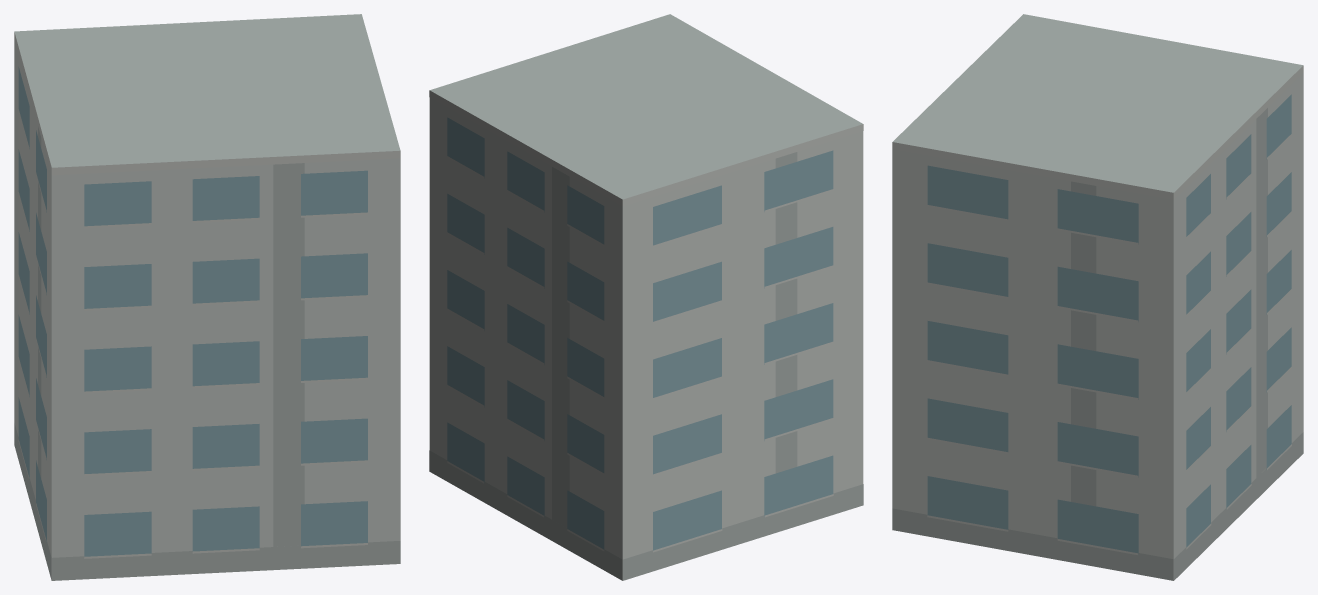
The model's file is survey-upis-32900358.glb.
The picture shows the model from 3 angles, left to right: view 1: azimuth 30°, elevation 25°; view 2: azimuth 150°, elevation 25°; view 3: azimuth 270°, elevation 25°; orthographic projection. The views are drawn at different scales.
Visible parts, largest first — view 1: survey-upis-32900358.tmp; view 2: survey-upis-32900358.tmp; view 3: survey-upis-32900358.tmp.
Boxes of the visible parts, box(x1,y1,x2,y2) form: survey-upis-32900358.tmp: box(14, 14, 400, 580); survey-upis-32900358.tmp: box(429, 14, 863, 580); survey-upis-32900358.tmp: box(892, 14, 1303, 580).
Bounding box in the file's own units: 13.05 × 13.2 × 12.68.
